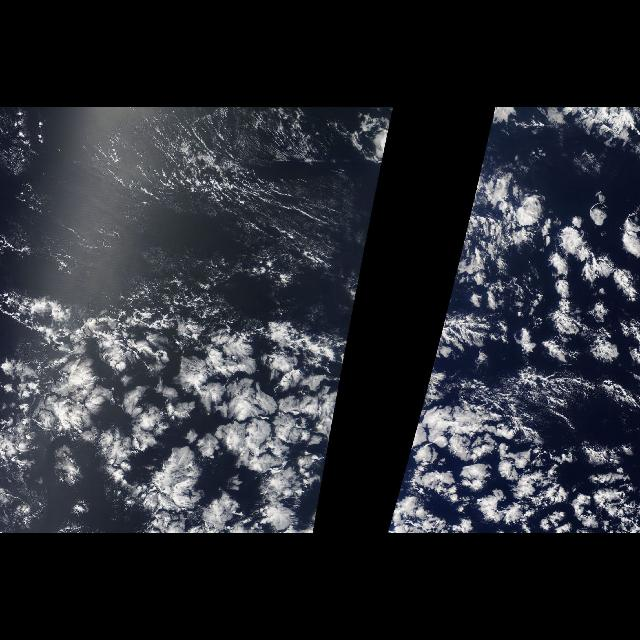Flower: (9, 249, 364, 533), (385, 162, 639, 534)
Gravel: (66, 111, 360, 239)
Sugar: (80, 108, 340, 266)
